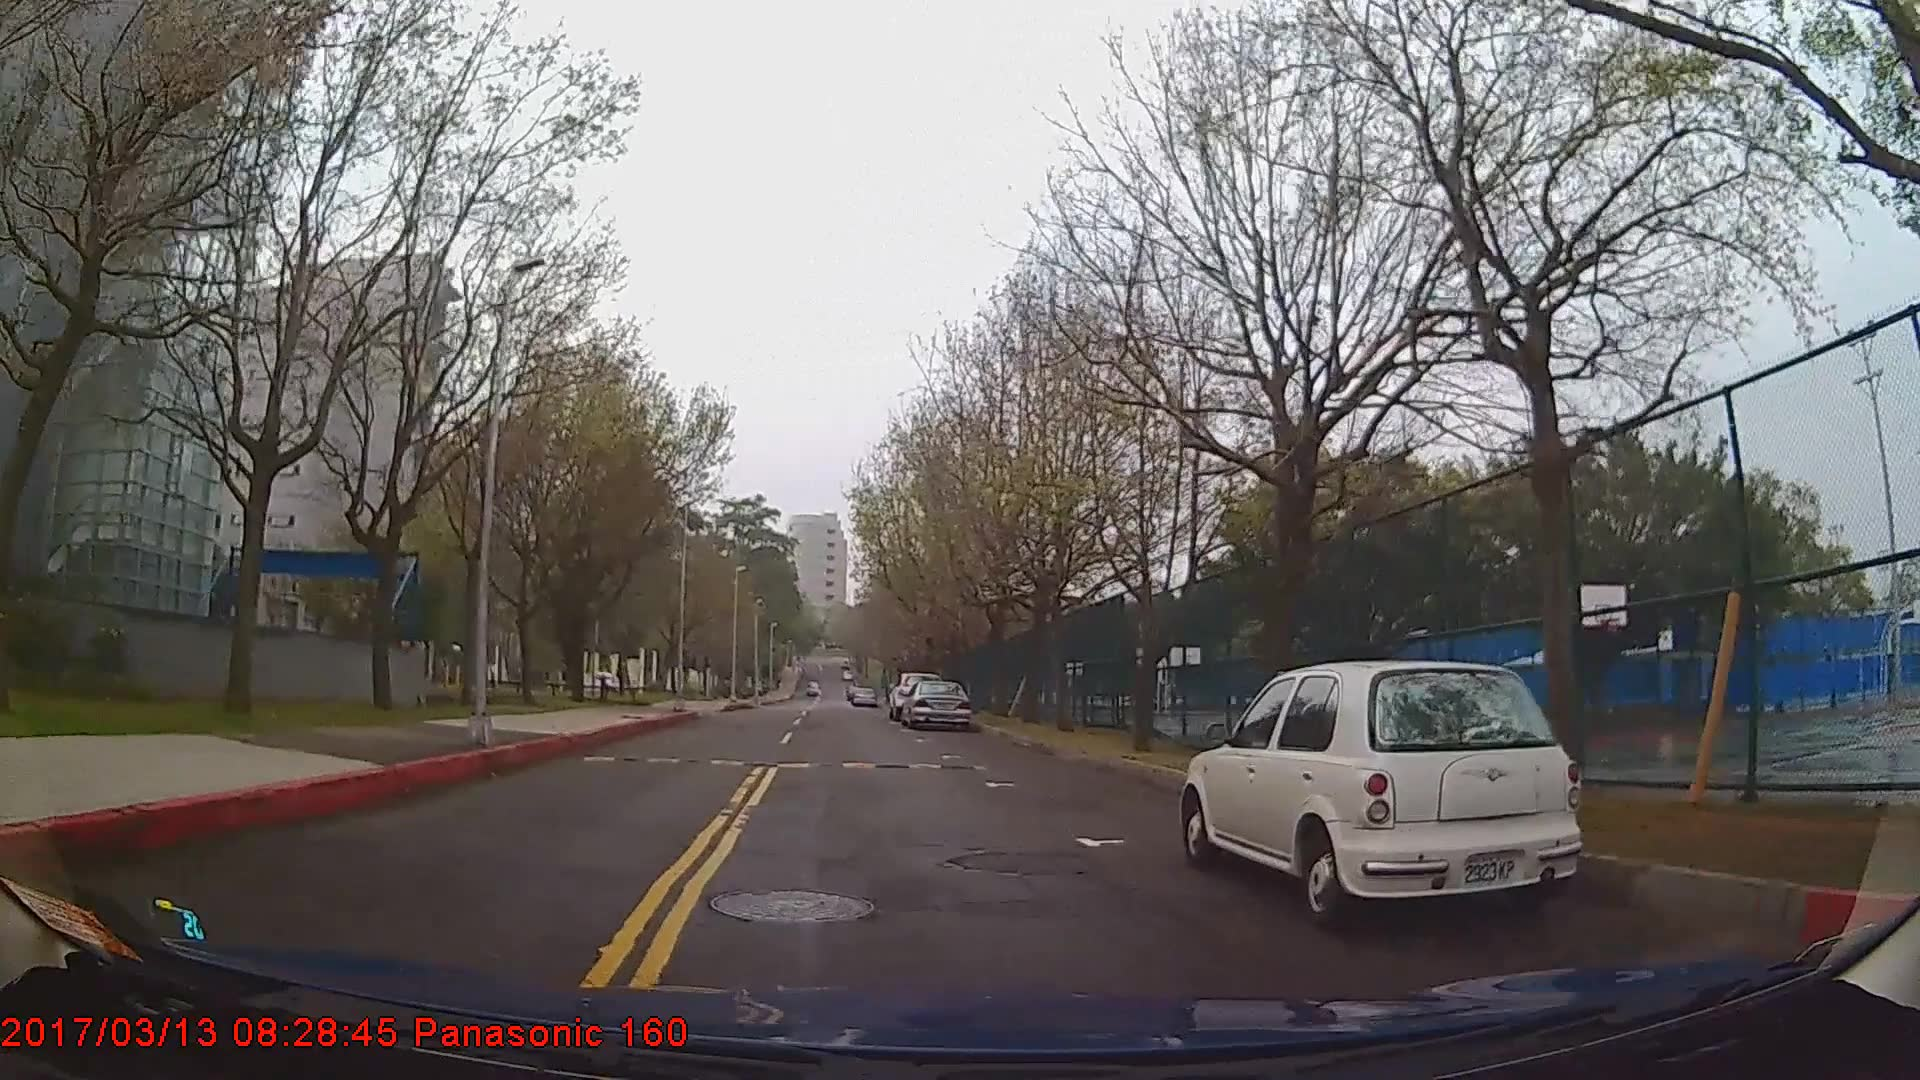vehicle: (1178, 657, 1588, 931), (899, 676, 973, 727)
